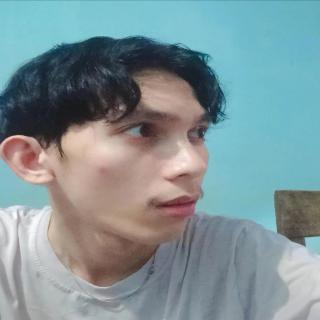Takut: (44, 45, 220, 257)
